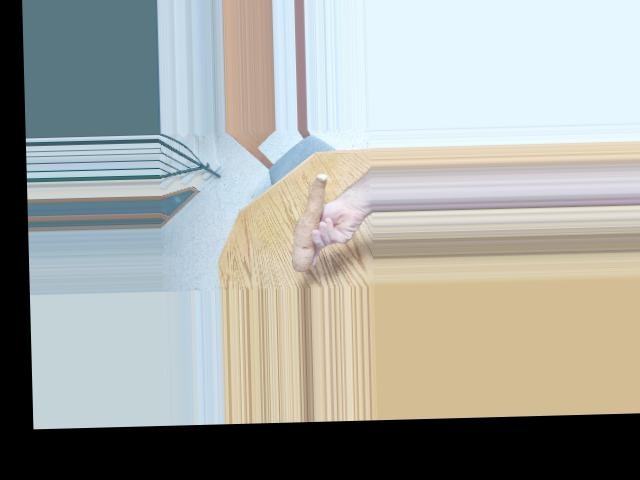sweet_potato: (285, 171, 333, 270)
